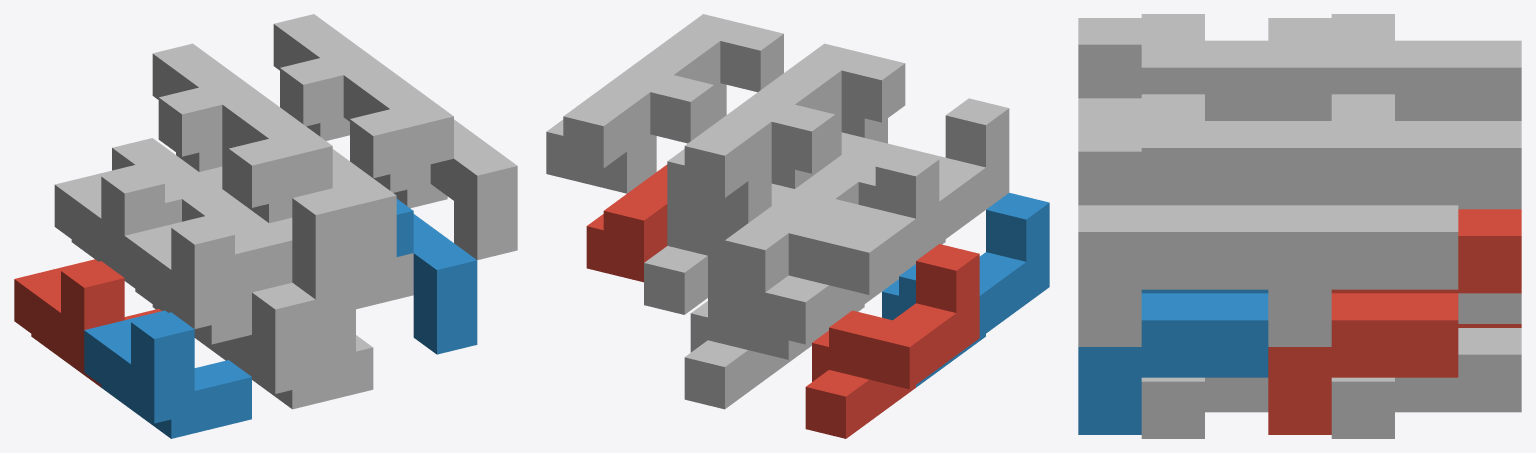
Rendered from tiling.obj.
The picture shows the model from 3 angles, left to right: view 1: azimuth 30°, elevation 25°; view 2: azimuth 150°, elevation 25°; view 3: azimuth 270°, elevation 25°; orthographic projection. The views are drawn at different scales.
Parts seen in each view (by area): view 1: copy_2_domain_8, copy_2_domain_4, copy_1_domain_2, copy_1_domain_4, copy_1_domain_6, copy_2_domain_2, copy_2_domain_7, copy_2_domain_3, copy_1_domain_1, copy_1_domain_8, copy_2_domain_6, copy_1_domain_3 (+2 smaller); view 2: copy_1_domain_1, copy_1_domain_3, copy_2_domain_7, copy_2_domain_3, copy_1_domain_2, copy_1_domain_5, copy_1_domain_4, copy_2_domain_1, copy_2_domain_4, copy_2_domain_8, copy_1_domain_7, copy_2_domain_5 (+2 smaller); view 3: copy_2_domain_7, copy_2_domain_8, copy_2_domain_5, copy_2_domain_4, copy_2_domain_6, copy_2_domain_3, copy_1_domain_5, copy_1_domain_6, copy_1_domain_4, copy_1_domain_7, copy_1_domain_8, copy_1_domain_3.
Boxes of the visible parts, bbox=[...] form: copy_2_domain_8: bbox=[343, 65, 517, 260]; copy_2_domain_4: bbox=[222, 95, 396, 289]; copy_1_domain_2: bbox=[84, 310, 251, 438]; copy_1_domain_4: bbox=[124, 216, 251, 344]; copy_1_domain_6: bbox=[205, 282, 373, 409]; copy_2_domain_2: bbox=[182, 189, 355, 383]; copy_2_domain_7: bbox=[273, 14, 447, 208]; copy_2_domain_3: bbox=[152, 43, 262, 171]; copy_1_domain_1: bbox=[14, 259, 161, 387]; copy_1_domain_8: bbox=[269, 188, 413, 309]; copy_2_domain_6: bbox=[396, 199, 477, 354]; copy_1_domain_3: bbox=[54, 165, 164, 292]; copy_1_domain_1: bbox=[805, 244, 979, 438]; copy_1_domain_3: bbox=[765, 149, 939, 344]; copy_2_domain_7: bbox=[546, 65, 713, 193]; copy_2_domain_3: bbox=[667, 95, 835, 222]; copy_1_domain_2: bbox=[882, 192, 1049, 387]; copy_1_domain_5: bbox=[684, 298, 858, 409]; copy_1_domain_4: bbox=[858, 98, 1009, 292]; copy_2_domain_1: bbox=[708, 189, 875, 311]; copy_2_domain_4: bbox=[755, 43, 905, 171]; copy_2_domain_8: bbox=[633, 14, 783, 123]; copy_1_domain_7: bbox=[644, 164, 818, 314]; copy_2_domain_5: bbox=[586, 164, 667, 282]; copy_2_domain_7: bbox=[1268, 94, 1521, 346]; copy_2_domain_8: bbox=[1078, 94, 1331, 346]; copy_2_domain_5: bbox=[1268, 209, 1521, 434]; copy_2_domain_4: bbox=[1078, 14, 1331, 205]; copy_2_domain_6: bbox=[1078, 289, 1268, 434]; copy_2_domain_3: bbox=[1331, 14, 1521, 120]; copy_1_domain_5: bbox=[1331, 328, 1521, 438]; copy_1_domain_6: bbox=[1141, 377, 1268, 438]; copy_1_domain_4: bbox=[1078, 18, 1141, 98]; copy_1_domain_7: bbox=[1458, 293, 1521, 323]; copy_1_domain_8: bbox=[1078, 98, 1141, 124]; copy_1_domain_3: bbox=[1268, 18, 1331, 40].
Bounding box in the file's own units: 9 × 6 × 7.
